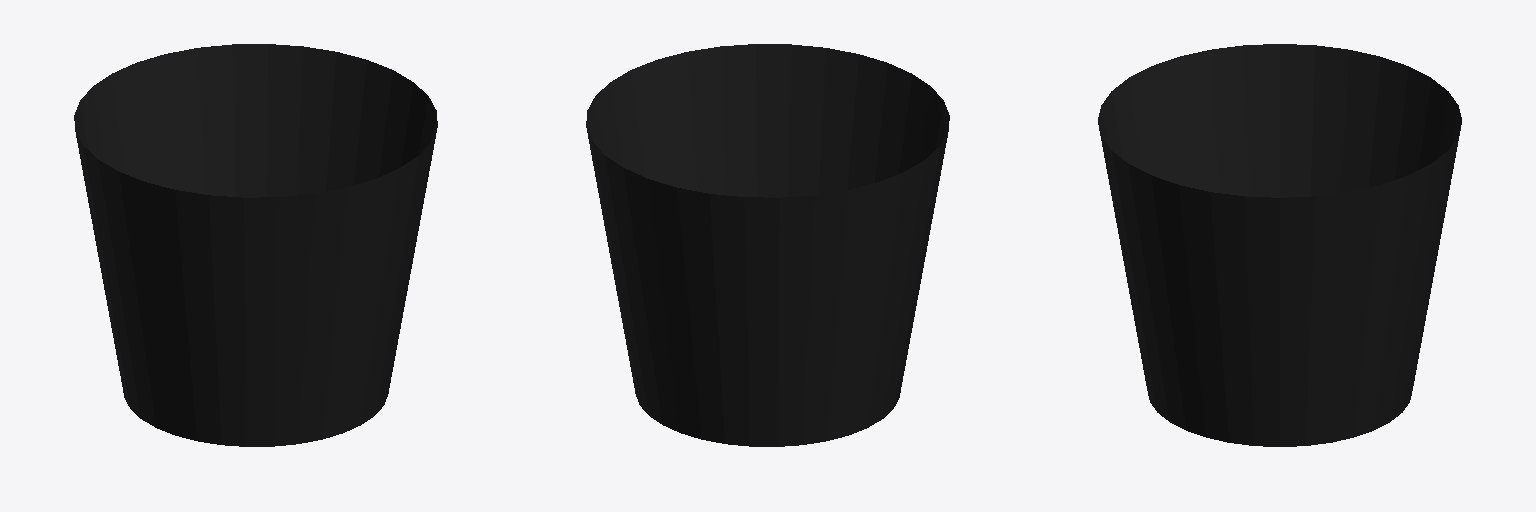
File: bucket.obj
The picture shows the model from 3 angles: view 1: azimuth 30°, elevation 25°; view 2: azimuth 150°, elevation 25°; view 3: azimuth 270°, elevation 25°; orthographic projection.
Visible parts, largest first — view 1: Cone; view 2: Cone; view 3: Cone.
Part boxes in pixels (left/top/right/bottom): Cone: left=74, top=44, right=437, bottom=446; Cone: left=586, top=44, right=949, bottom=446; Cone: left=1098, top=44, right=1461, bottom=446.
Size of the model in its own units: 4 by 3.27 by 4.